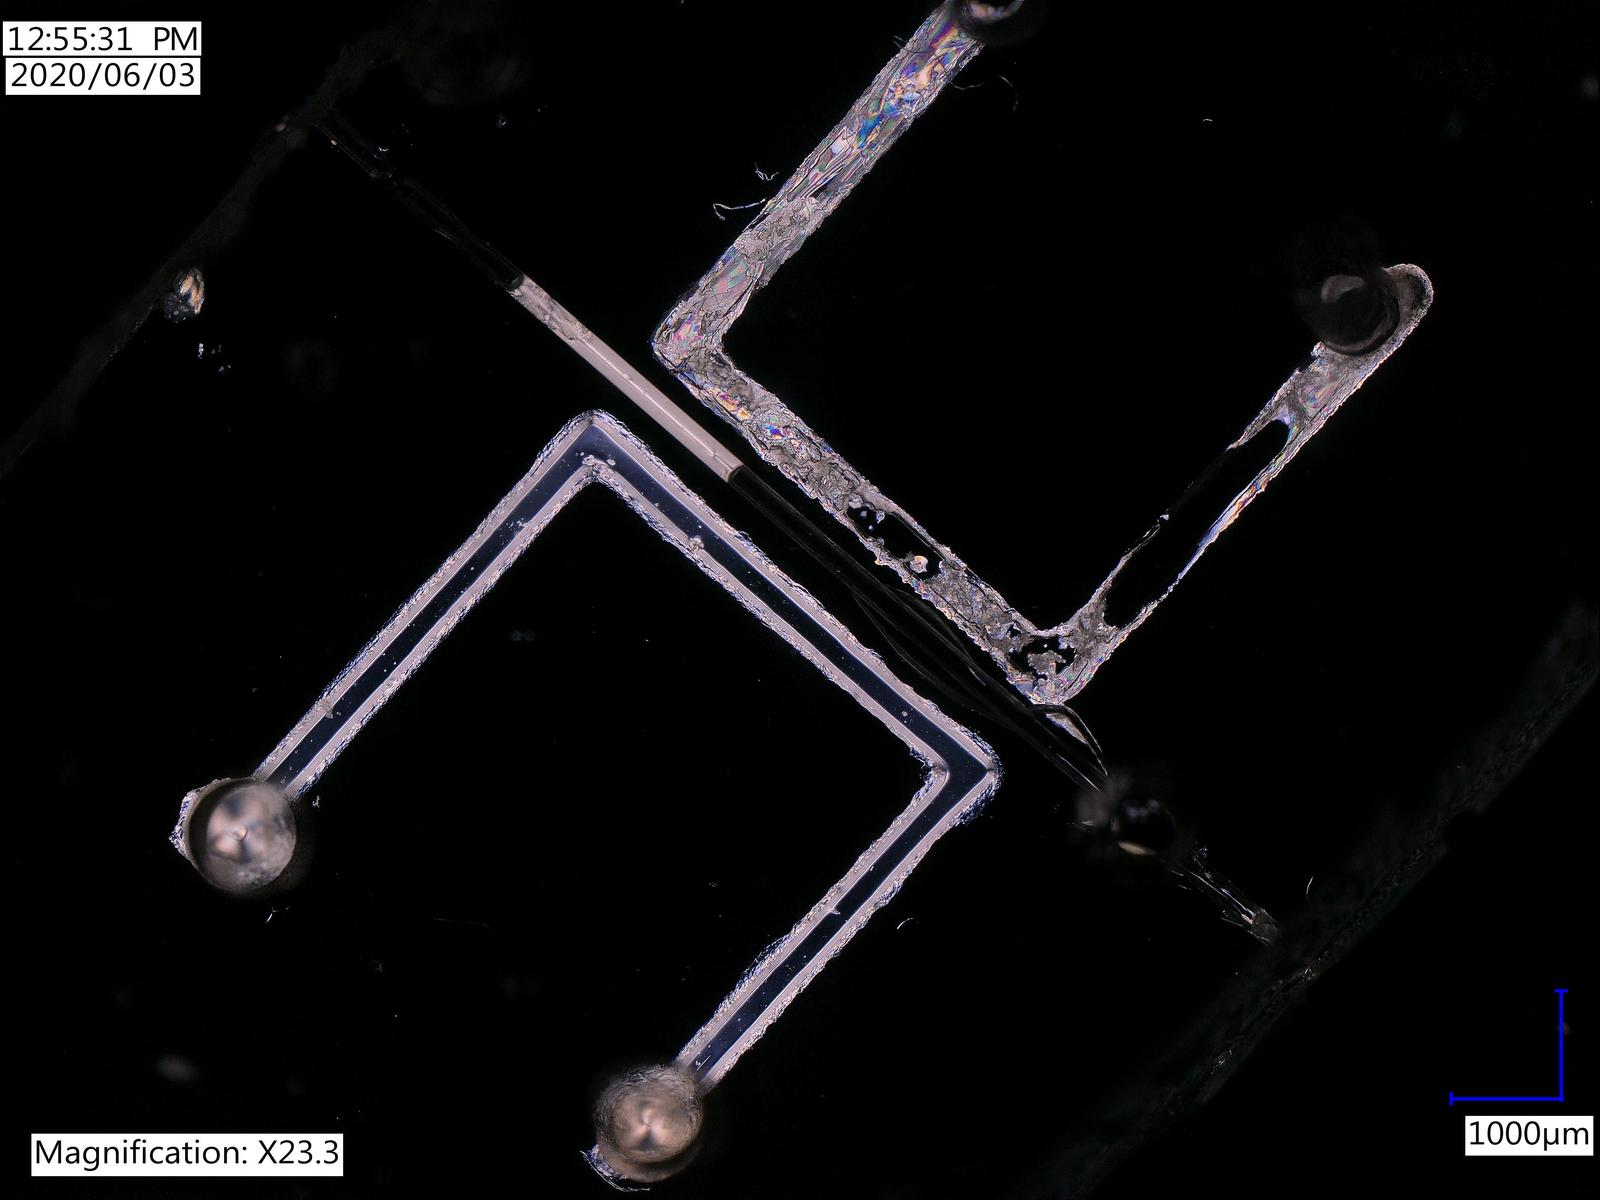sediment: (937, 558, 1026, 649), (779, 431, 849, 499), (687, 345, 753, 403), (1073, 603, 1111, 659), (1277, 388, 1315, 430), (1024, 650, 1065, 676)
